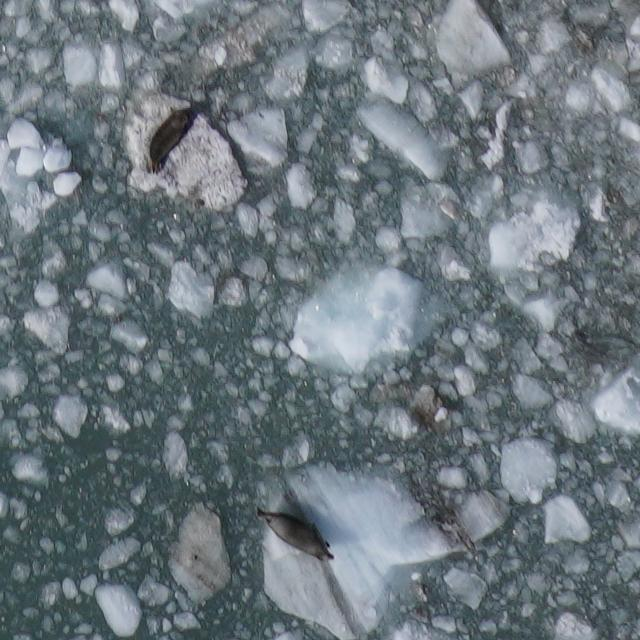seal: (248, 502, 344, 566), (136, 96, 199, 181)
